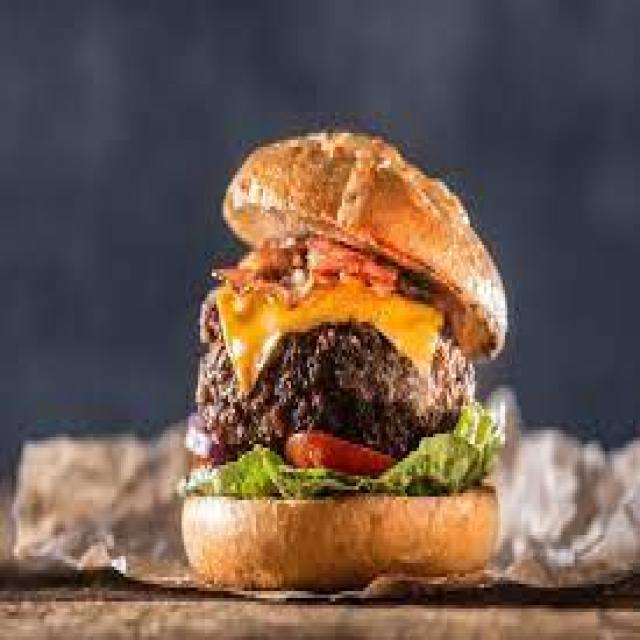Burger: (222, 157, 523, 602)
